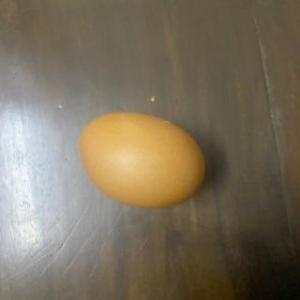egg: (77, 107, 207, 209)
